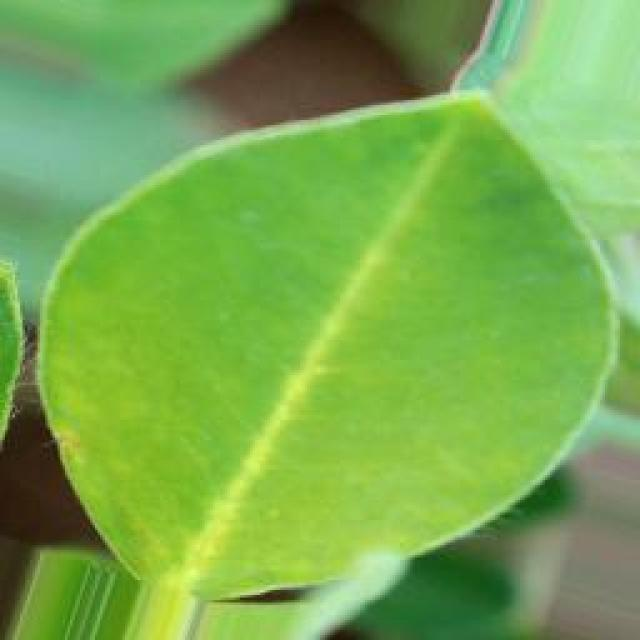Yellow_and_black_sigatoka: (29, 84, 619, 594)
